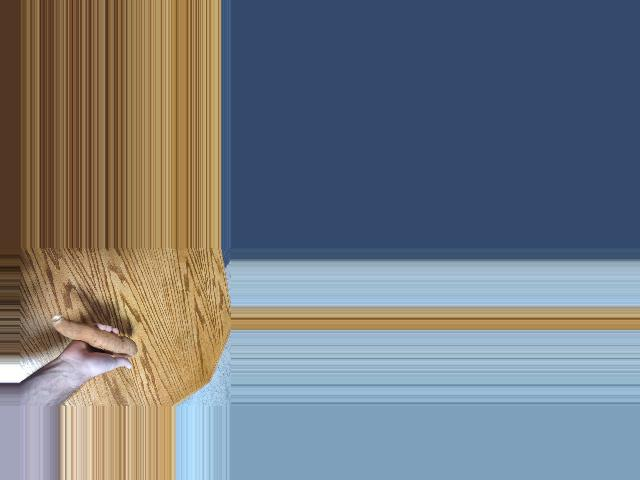sweet_potato: (49, 315, 137, 357)
